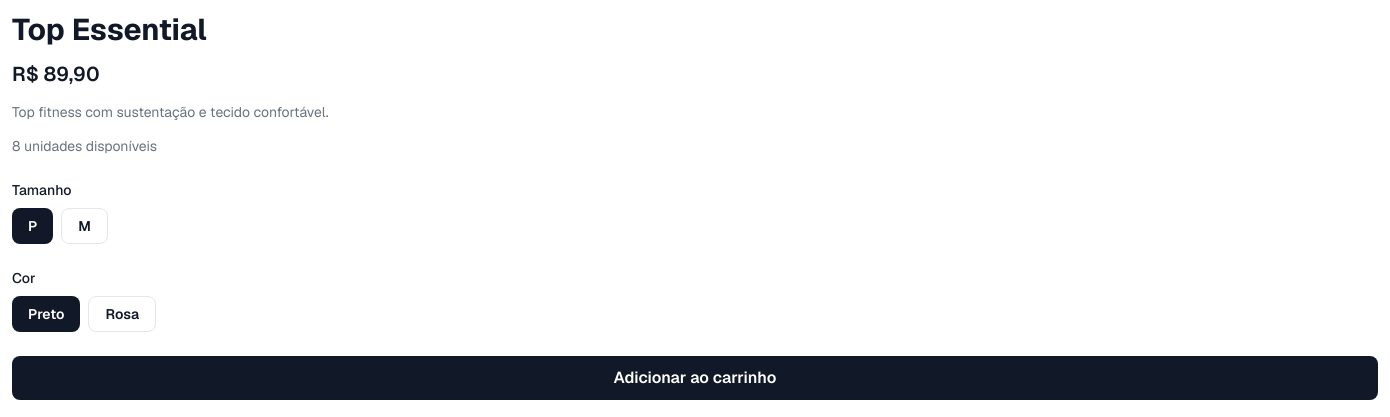
Test: ProductInfo › deve atualizar preço e estoque ao selecionar outro tamanho
The image size is (1390, 417).
Click the button named "Selecionar tamanho M". click: (85, 226)
box: [61,208,108,244]
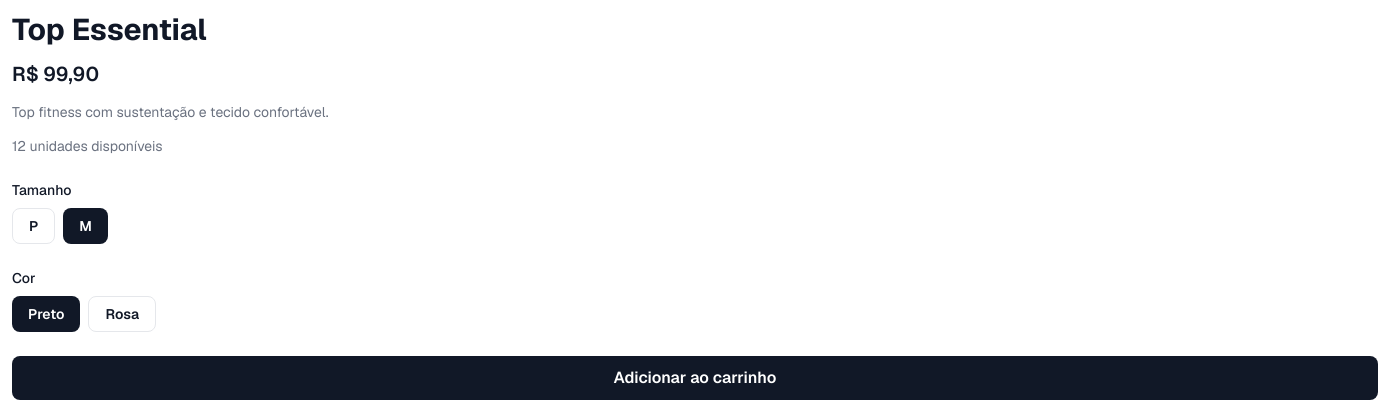
Now the text "R$ 99,90" is shown, box [12,61,99,87]
Now the text "12 unidades disponíveis" is shown, box [12,137,163,155]
